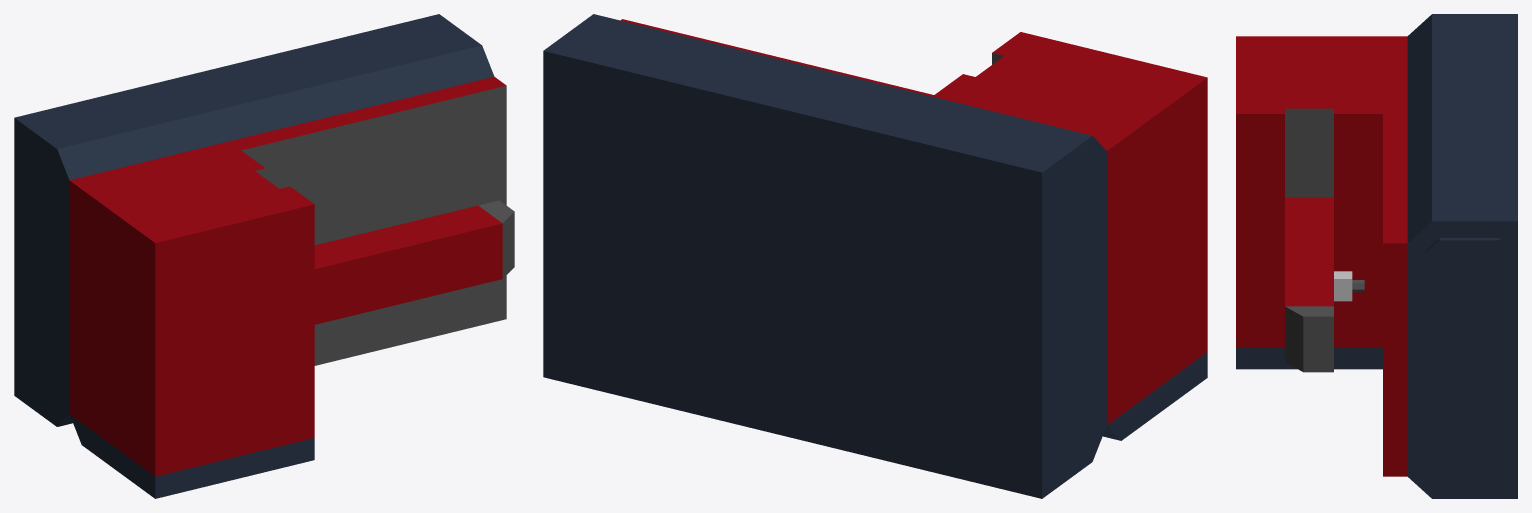
Rendered from cnc_cutting_machine_1_state_1.dae.
3 views of the same model, side by side, from view 1: azimuth 30°, elevation 25°; view 2: azimuth 150°, elevation 25°; view 3: azimuth 270°, elevation 25° (orthographic). The views are drawn at different scales.
Visible parts, largest first — view 1: coords_ME_ID25_MA_material_7, coords_ME_ID17_MA_jean_blue, coords_ME_ID97_MA_material, coords_ME_ID41_MA_material; view 2: coords_ME_ID17_MA_jean_blue, coords_ME_ID25_MA_material_7; view 3: coords_ME_ID25_MA_material_7, coords_ME_ID17_MA_jean_blue, coords_ME_ID69_MA_jean_blue, coords_ME_ID75_MA_material, coords_ME_ID41_MA_material, coords_ME_ID61_MA_material_11.
Part boxes in pixels (x1,y1,x2,y2): coords_ME_ID25_MA_material_7: (69,76,506,476); coords_ME_ID17_MA_jean_blue: (14,14,494,498); coords_ME_ID97_MA_material: (241,85,506,365); coords_ME_ID41_MA_material: (478,200,514,278); coords_ME_ID17_MA_jean_blue: (543,14,1207,498); coords_ME_ID25_MA_material_7: (620,19,1207,424); coords_ME_ID25_MA_material_7: (1236,36,1407,476); coords_ME_ID17_MA_jean_blue: (1236,14,1517,498); coords_ME_ID69_MA_jean_blue: (1426,238,1499,484); coords_ME_ID75_MA_material: (1285,108,1333,197); coords_ME_ID41_MA_material: (1285,306,1333,372); coords_ME_ID61_MA_material_11: (1334,271,1352,301).
Size of the model in its own units: 44.65 by 28.11 by 25.35.
